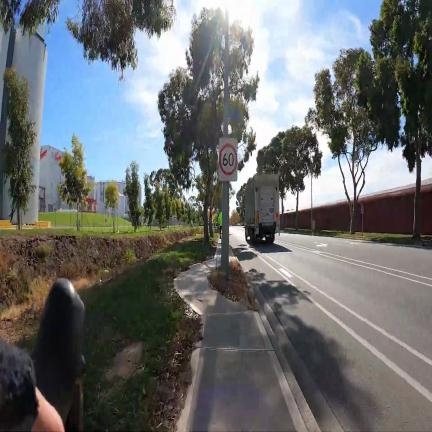Bike_Lane: (233, 245, 432, 432)
